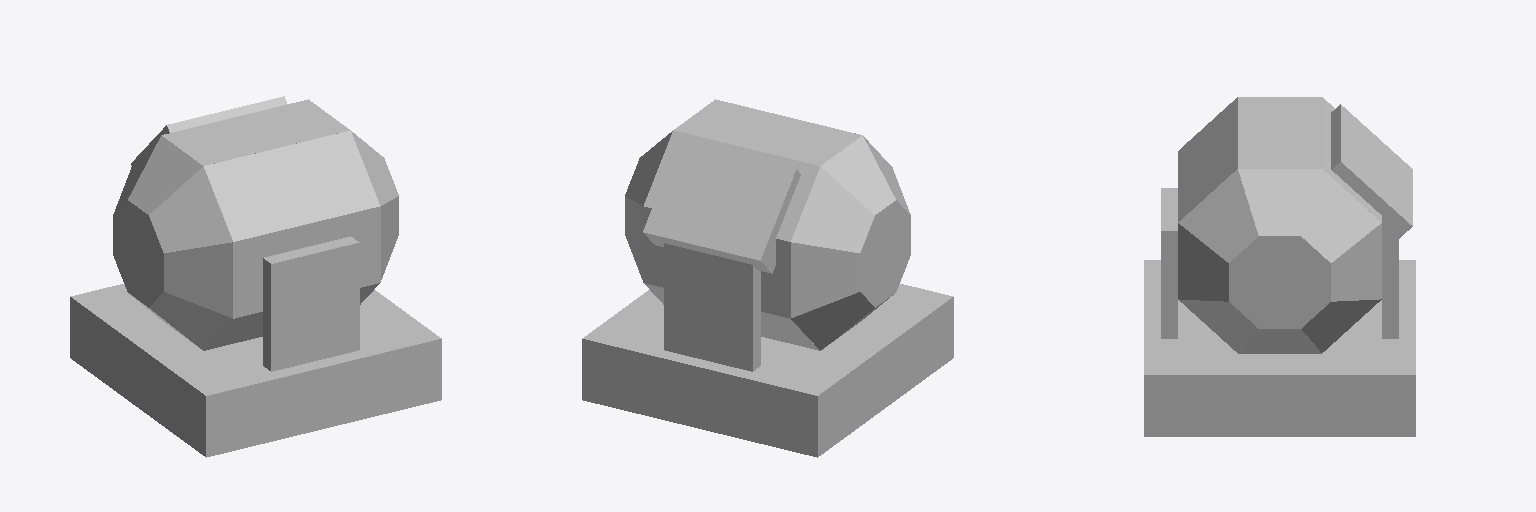
The model's file is generator.obj.
The picture shows the model from 3 angles: view 1: azimuth 30°, elevation 25°; view 2: azimuth 150°, elevation 25°; view 3: azimuth 270°, elevation 25°; orthographic projection.
Bounding box in the file's own units: 1 × 1 × 1.